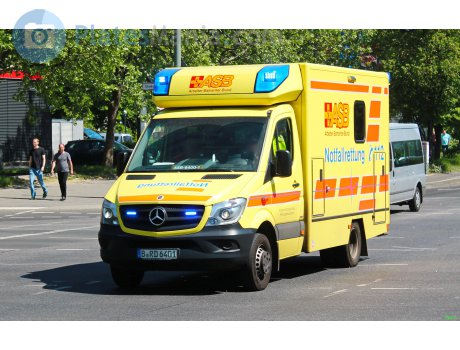License Plates: (132, 247, 177, 259)
